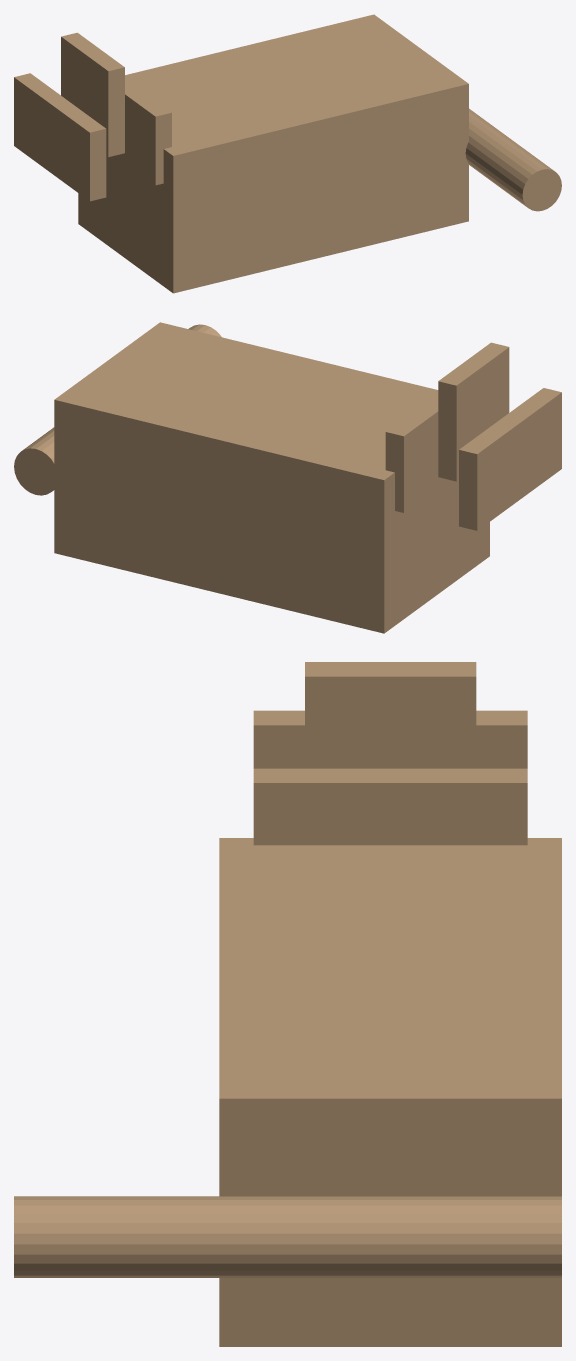
Rendered from watering-can.glb.
3 renders of one model, top to bottom at view 1: azimuth 30°, elevation 25°; view 2: azimuth 150°, elevation 25°; view 3: azimuth 270°, elevation 25°, orthographic. The views are drawn at different scales.
Parts seen in each view (by area): view 1: world; view 2: world; view 3: world.
Boxes of the visible parts, <box> form: world: <box>14,14,561,293</box>; world: <box>14,322,561,633</box>; world: <box>14,662,561,1346</box>.
Bounding box in the file's own units: 1.24 × 0.625 × 0.8.
